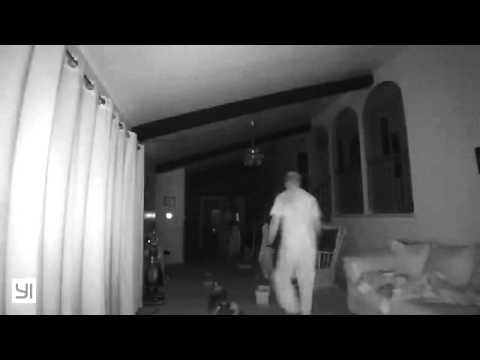person: (255, 162, 332, 310)
